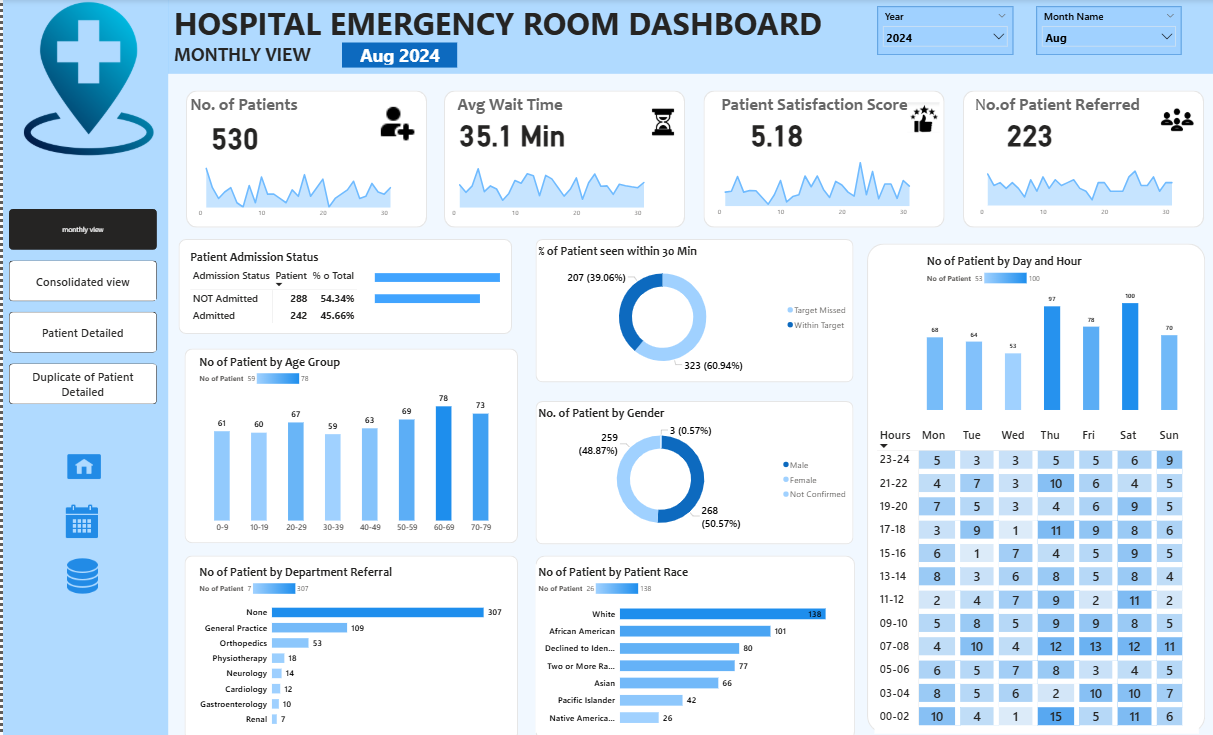

Layout of this report page (visuals, bound fields, positions):
{"tool":"powerbi","page":{"name":"monthly view","canvas":[2300,1400],"ordinal":0},"visuals":[{"type":"shape","box":[0,0,311.8,1400],"z":0},{"type":"shape","box":[311.8,0,1987,141.2],"z":1000},{"type":"textbox","box":[317.6,0,1979.4,105.9],"z":2000},{"type":"shape","box":[344.1,172.8,455,258.8],"z":3000},{"type":"textbox","box":[347.1,173.5,261.8,67.6],"z":4000},{"type":"card","fields":{"Values":["Hospital ER_Data.No of Patient"]},"box":[347.1,214.7,176.5,82.4],"z":5000},{"type":"textbox","box":[317.6,76.5,379.4,97.1],"z":6000},{"type":"lineChart","fields":{"Y":["Hospital ER_Data.No of Patient"],"Category":["Date Table.Date.Variation.Date Hierarchy.Day"]},"box":[356.9,298,435.3,125],"z":7000},{"type":"shape","box":[833.3,172.8,455,258.8],"z":8000},{"type":"textbox","box":[852.9,173.5,261.8,67.6],"z":9000},{"type":"card","fields":{"Values":["Hospital ER_Data.Avg Wait Time"]},"box":[852.9,208.8,217.6,82.4],"z":10000},{"type":"lineChart","fields":{"Y":["Avg(Hospital ER_Data.Patient Waittime)"],"Category":["Date Table.Date.Variation.Date Hierarchy.Day"]},"box":[836.3,298,435.3,125],"z":11000},{"type":"shape","box":[1811.8,172.8,455,258.8],"z":12000},{"type":"shape","box":[1322.5,172.8,455,258.8],"z":13000},{"type":"textbox","box":[1350,173.5,388.2,58.8],"z":14000},{"type":"card","fields":{"Values":["Hospital ER_Data.Satisfaction Score"]},"box":[1350,208.8,217.6,82.4],"z":15000},{"type":"lineChart","fields":{"Category":["Date Table.Date.Variation.Date Hierarchy.Day"],"Y":["Avg(Hospital ER_Data.Patient Satisfaction Score)"]},"box":[1336.3,295.1,435.3,125],"z":16000},{"type":"textbox","box":[1829.4,173.5,394.1,67.6],"z":17000},{"type":"card","fields":{"Values":["Hospital ER_Data.No.of Patient Referred"]},"box":[1829.4,208.8,217.6,82.4],"z":18000},{"type":"lineChart","fields":{"Category":["Date Table.Date.Variation.Date Hierarchy.Day"],"Y":["Hospital ER_Data.No.of Patient Referred"]},"box":[1830.4,295.1,435.3,125],"z":19000},{"type":"shape","box":[332.4,452.9,629.4,179.4],"z":20000},{"type":"pivotTable","title":"Patient Admission Status","fields":{"Rows":["Hospital ER_Data.Admission Status"],"Values":["Hospital ER_Data.No of Patient1","Hospital ER_Data.No of Patient"]},"box":[347.1,473.5,614.7,158.8],"z":21000},{"type":"barChart","fields":{"Category":["Hospital ER_Data.Admission Status"],"Y":["Hospital ER_Data.No of Patient"]},"box":[697.1,485.3,255.9,117.6],"z":22000},{"type":"shape","box":[341.2,658.8,629.4,367.6],"z":23000},{"type":"clusteredColumnChart","fields":{"Category":["Hospital ER_Data.Age Group"],"Y":["Hospital ER_Data.No of Patient"]},"box":[364.7,670.6,585.3,347.1],"z":24000},{"type":"shape","box":[1005.9,452.9,600,270.6],"z":25000},{"type":"shape","box":[341.2,1050,629.4,350],"z":26000},{"type":"clusteredBarChart","fields":{"Category":["Hospital ER_Data.Department Referral"],"Y":["Hospital ER_Data.No of Patient"]},"box":[364.7,1067.6,582.4,317.6],"z":27000},{"type":"donutChart","title":"% of Patient seen within 30 Min","fields":{"Category":["Hospital ER_Data.waittime Status"],"Y":["Hospital ER_Data.No of Patient"]},"box":[1005.9,461.8,600,250],"z":28000},{"type":"shape","box":[1005.9,758.8,600,270.6],"z":29000},{"type":"donutChart","title":"No. of Patient by Gender","fields":{"Y":["Hospital ER_Data.No of Patient"],"Category":["Hospital ER_Data.Patient Gender"]},"box":[1005.9,767.6,600,250],"z":30000},{"type":"shape","box":[1005.9,1050,602.9,350],"z":31000},{"type":"clusteredBarChart","fields":{"Y":["Hospital ER_Data.No of Patient"],"Category":["Hospital ER_Data.Patient Race"]},"box":[1005.9,1067.6,582.4,317.6],"z":32000},{"type":"shape","box":[1629.4,461.8,638.2,923.5],"z":33000},{"type":"pivotTable","fields":{"Rows":["Hospital ER_Data.Waittime Interval"],"Columns":["Date Table.Day Name"],"Values":["Hospital ER_Data.No of Patient"]},"box":[1644.1,800,611.8,585.3],"z":34000},{"type":"columnChart","title":"No of Patient by Day and Hour","fields":{"Category":["Date Table.Day Name"],"Y":["Hospital ER_Data.No of Patient"]},"box":[1738.2,482.4,485.3,300],"z":35000},{"type":"image","box":[1202.9,197.1,85.3,67.6],"z":36000},{"type":"image","box":[708.8,197.1,73.5,73.5],"z":37000},{"type":"image","box":[1688.2,188.2,100,67.6],"z":38000},{"type":"image","box":[2173.5,170.6,82.4,114.7],"z":39000},{"type":"image","box":[11.8,0,300,300],"z":40000},{"type":"card","fields":{"Values":["Min(Date Table.Month & Year)"]},"box":[638.2,82.4,217.6,47.1],"z":41000},{"type":"slicer","fields":{"Values":["Date Table.Year"]},"box":[1650,14.7,255.9,91.2],"z":42000},{"type":"slicer","fields":{"Values":["Date Table.Month Name"]},"box":[1950,14.7,273.5,91.2],"z":43000},{"type":"pageNavigator","box":[11.8,397.1,279.4,370.6],"z":43001}]}

Visuals, with their boxes on the page's 2300x1400 design canvas (x1, y1, x2, y2). These are canvas units, not pixel positions in the 1213x735 screenshot, which may show the page scaled, cropped or inside an application window:
shape: Rect(0, 0, 312, 1400)
shape: Rect(312, 0, 2299, 141)
textbox: Rect(318, 0, 2297, 106)
shape: Rect(344, 173, 799, 432)
textbox: Rect(347, 174, 609, 241)
card - Hospital ER_Data.No of Patient: Rect(347, 215, 524, 297)
textbox: Rect(318, 76, 697, 174)
lineChart - Hospital ER_Data.No of Patient x Date Table.Date.Variation.Date Hierarchy.Day: Rect(357, 298, 792, 423)
shape: Rect(833, 173, 1288, 432)
textbox: Rect(853, 174, 1115, 241)
card - Hospital ER_Data.Avg Wait Time: Rect(853, 209, 1070, 291)
lineChart - Avg(Hospital ER_Data.Patient Waittime) x Date Table.Date.Variation.Date Hierarchy.Day: Rect(836, 298, 1272, 423)
shape: Rect(1812, 173, 2267, 432)
shape: Rect(1322, 173, 1778, 432)
textbox: Rect(1350, 174, 1738, 232)
card - Hospital ER_Data.Satisfaction Score: Rect(1350, 209, 1568, 291)
lineChart - Date Table.Date.Variation.Date Hierarchy.Day x Avg(Hospital ER_Data.Patient Satisfaction Score): Rect(1336, 295, 1772, 420)
textbox: Rect(1829, 174, 2224, 241)
card - Hospital ER_Data.No.of Patient Referred: Rect(1829, 209, 2047, 291)
lineChart - Date Table.Date.Variation.Date Hierarchy.Day x Hospital ER_Data.No.of Patient Referred: Rect(1830, 295, 2266, 420)
shape: Rect(332, 453, 962, 632)
"Patient Admission Status" pivotTable: Rect(347, 474, 962, 632)
barChart - Hospital ER_Data.Admission Status x Hospital ER_Data.No of Patient: Rect(697, 485, 953, 603)
shape: Rect(341, 659, 971, 1026)
clusteredColumnChart - Hospital ER_Data.Age Group x Hospital ER_Data.No of Patient: Rect(365, 671, 950, 1018)
shape: Rect(1006, 453, 1606, 724)
shape: Rect(341, 1050, 971, 1400)
clusteredBarChart - Hospital ER_Data.Department Referral x Hospital ER_Data.No of Patient: Rect(365, 1068, 947, 1385)
"% of Patient seen within 30 Min" donutChart: Rect(1006, 462, 1606, 712)
shape: Rect(1006, 759, 1606, 1029)
"No. of Patient by Gender" donutChart: Rect(1006, 768, 1606, 1018)
shape: Rect(1006, 1050, 1609, 1400)
clusteredBarChart - Hospital ER_Data.No of Patient x Hospital ER_Data.Patient Race: Rect(1006, 1068, 1588, 1385)
shape: Rect(1629, 462, 2268, 1385)
pivotTable - Hospital ER_Data.Waittime Interval x Date Table.Day Name: Rect(1644, 800, 2256, 1385)
"No of Patient by Day and Hour" columnChart: Rect(1738, 482, 2224, 782)
image: Rect(1203, 197, 1288, 265)
image: Rect(709, 197, 782, 271)
image: Rect(1688, 188, 1788, 256)
image: Rect(2174, 171, 2256, 285)
image: Rect(12, 0, 312, 300)
card - Min(Date Table.Month & Year): Rect(638, 82, 856, 130)
slicer - Date Table.Year: Rect(1650, 15, 1906, 106)
slicer - Date Table.Month Name: Rect(1950, 15, 2224, 106)
pageNavigator: Rect(12, 397, 291, 768)
